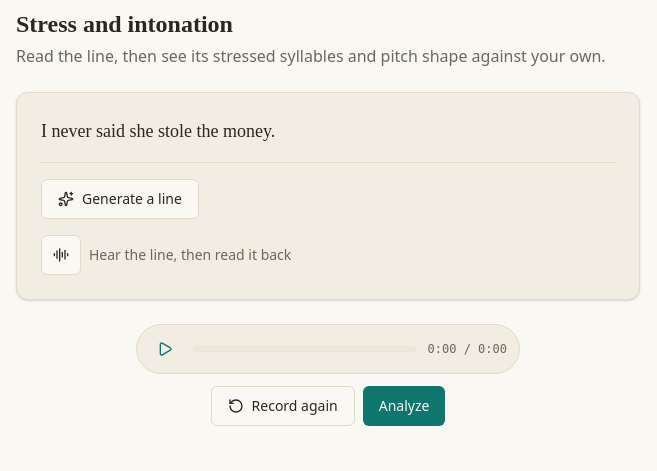
Test: StressIntonation › should surface an actionable message when generation fails
Click the button "Generate a line". click: (120, 199)
box: x1=41 y1=179 x2=199 y2=219
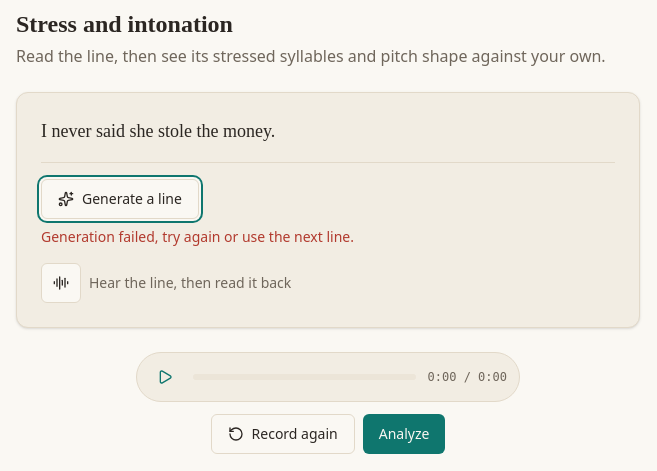
Check: the message shows "Generation failed", box x1=41 y1=227 x2=354 y2=246
